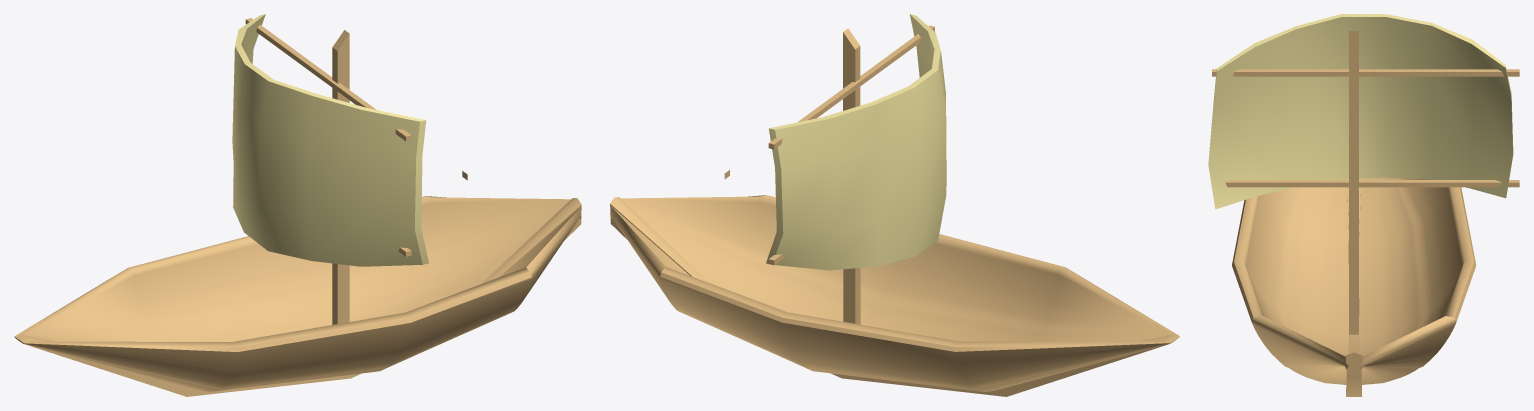
The model's file is barque1.FBX.
3 views of the same model, side by side, from view 1: azimuth 30°, elevation 25°; view 2: azimuth 150°, elevation 25°; view 3: azimuth 270°, elevation 25° (orthographic). The views are drawn at different scales.
Visible parts, largest first — view 1: Box001, Box003, Box004; view 2: Box001, Box003, Box004; view 3: Box003, Box001, Box004, Box005.
Part boxes in pixels (box(x1,y1,x2,y2)): Box001: box(14, 30, 581, 396); Box003: box(232, 14, 428, 266); Box004: box(245, 18, 411, 141); Box001: box(610, 28, 1179, 396); Box003: box(766, 14, 946, 270); Box004: box(768, 25, 934, 149); Box003: box(1208, 14, 1513, 209); Box001: box(1232, 31, 1476, 396); Box004: box(1212, 69, 1519, 76); Box005: box(1225, 180, 1519, 187).
Bounding box in the file's own units: 167 × 98.54 × 84.24.
